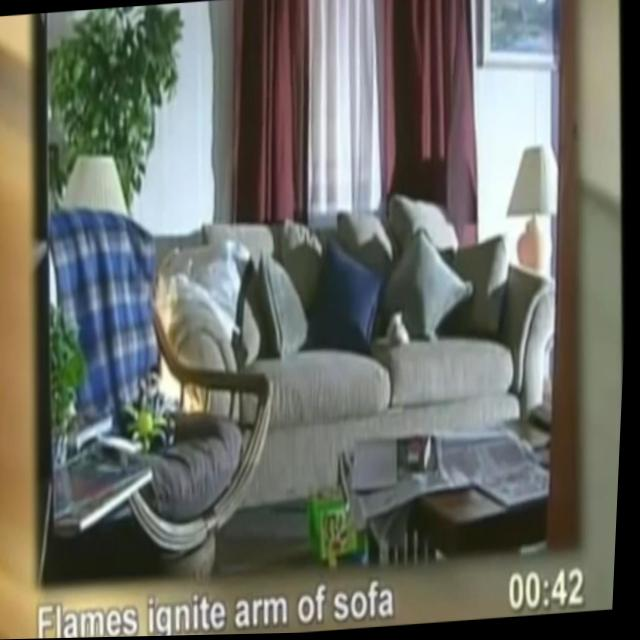fire: (154, 278, 211, 416)
